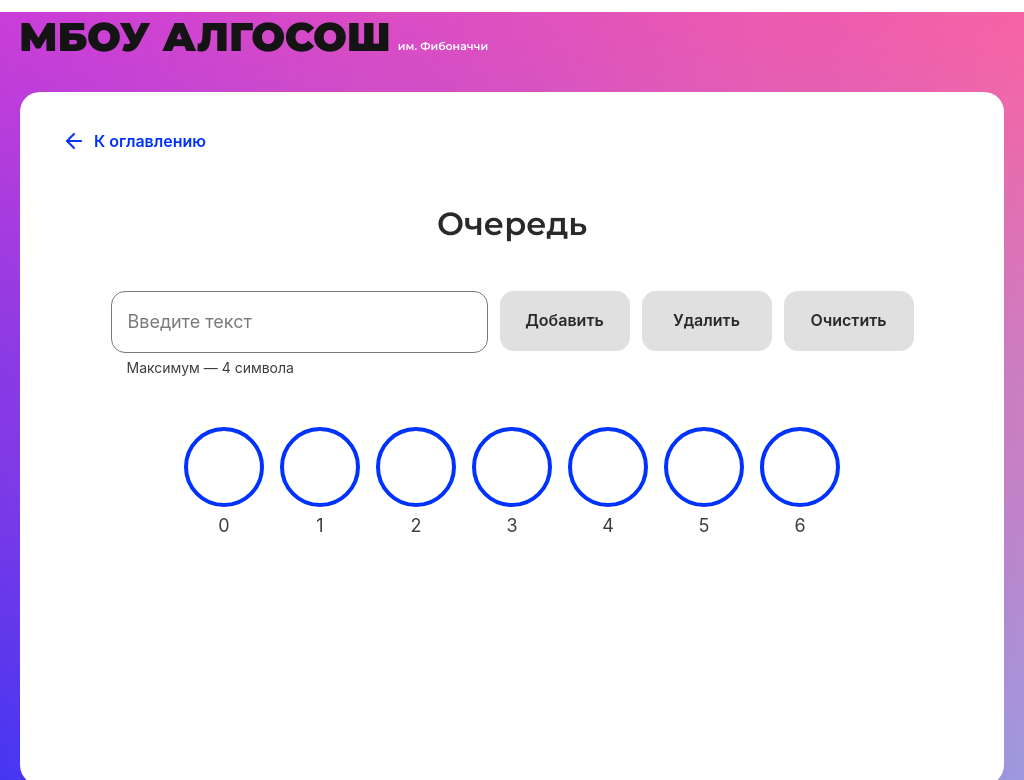
Test case: queue page test › checks whether button disabled or not when input is void
Expected: the button "Добавить" is disabled, [500,291,630,351]
Type "1" into the field with placeholder "Введите текст". click: (300, 322)
box: [111,291,488,353]
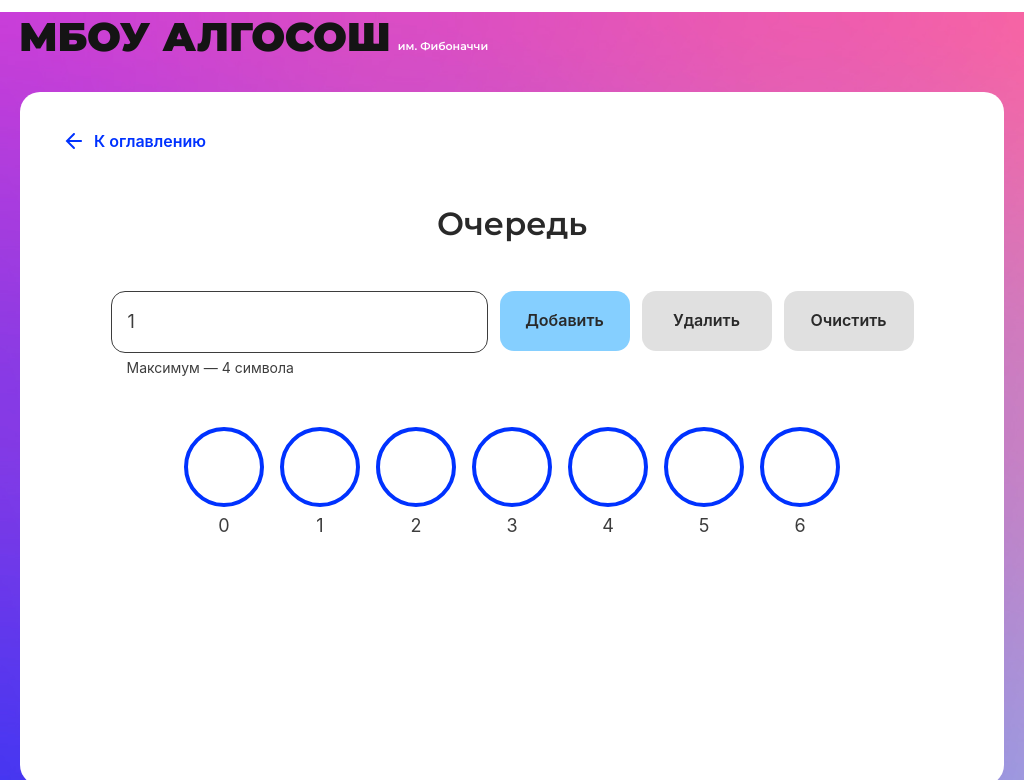
Expected: the text "Добавить" is enabled
Clear the field. click: (300, 322)
box: [111,291,488,353]
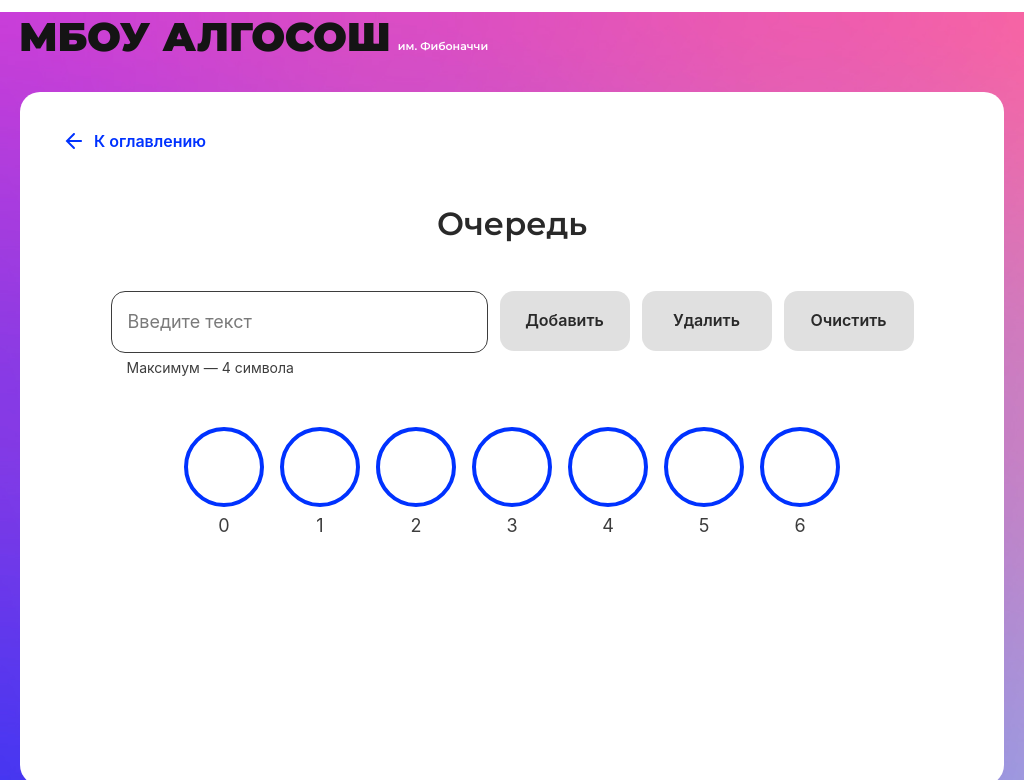
Expected: the button "Добавить" is disabled, [500,291,630,351]
